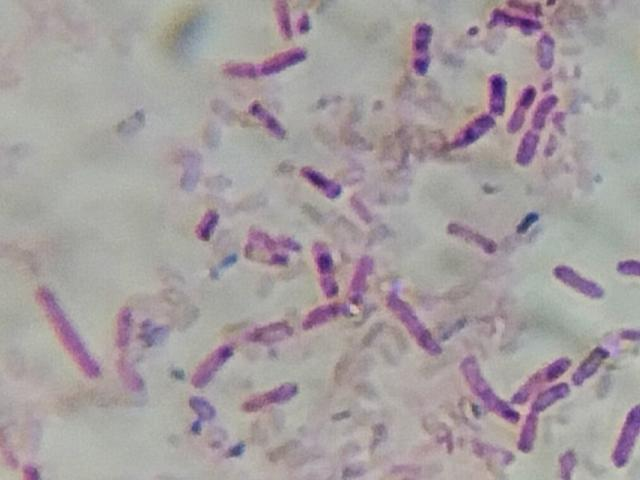E. coli: (42, 285, 104, 385), (384, 286, 444, 351), (458, 359, 511, 427), (442, 212, 506, 261), (507, 350, 575, 396), (116, 306, 149, 391), (219, 56, 312, 81), (239, 382, 305, 415), (556, 257, 601, 304), (610, 398, 638, 473), (446, 110, 495, 150), (196, 334, 232, 388), (489, 1, 545, 35), (255, 97, 289, 144), (313, 236, 340, 294), (410, 21, 438, 74), (305, 159, 340, 199), (253, 318, 295, 351), (576, 344, 609, 386), (303, 301, 345, 332), (193, 207, 225, 246), (510, 80, 533, 132), (490, 67, 512, 121), (353, 250, 372, 306), (535, 94, 565, 127), (523, 127, 543, 172), (542, 30, 560, 76), (616, 255, 640, 288), (274, 1, 296, 36), (523, 411, 540, 455)
